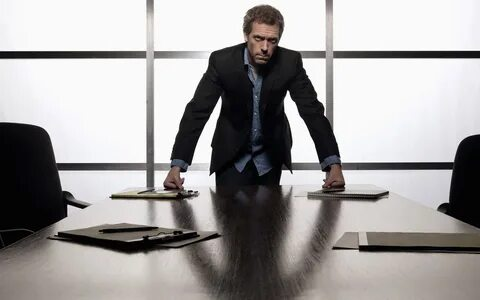awake: (163, 4, 346, 190)
